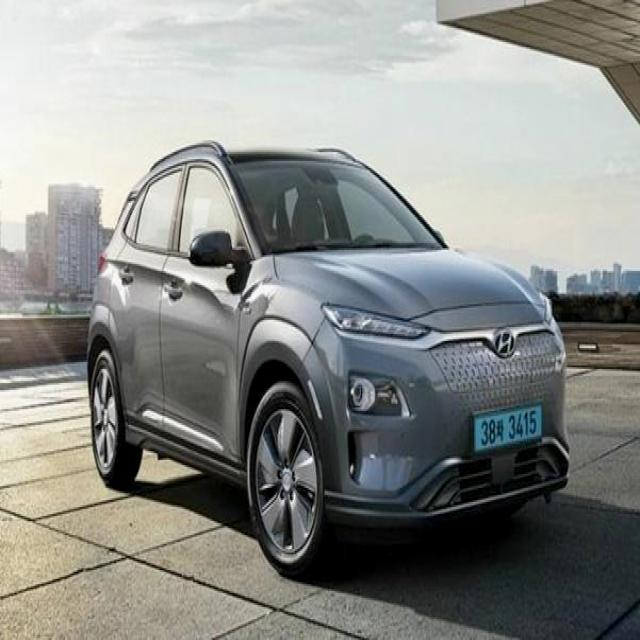EV_plate: (476, 403, 541, 459)
car: (85, 135, 572, 572)
